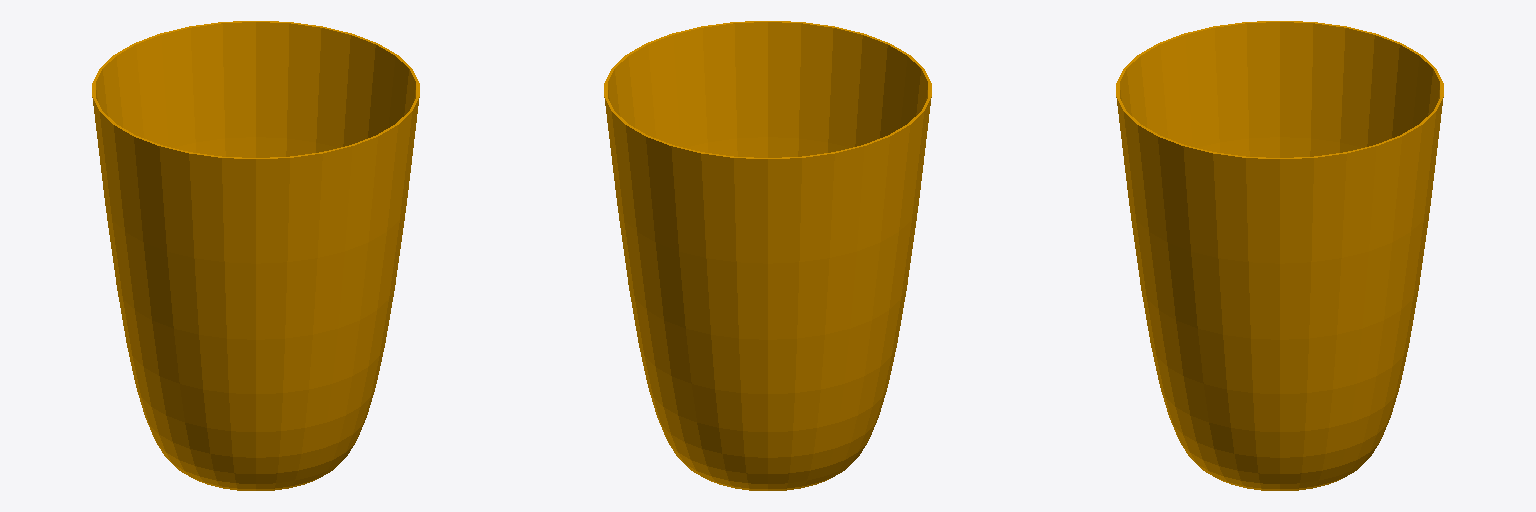
robot.urdf — object_634477841:

		<robot name="object_634477841">
			<link name="link_object_634477841">
				<visual>
					<geometry>
						<mesh filename="temp_object_634477841.obj" />
					</geometry>
				</visual>

				<collision>
					<geometry>
						<mesh filename="temp_object_634477841.obj" />
					</geometry>
				</collision>
				
				<inertial>
					<origin rpy="0 0 0" xyz="0 0 0"/>
					<mass value="0.3" />
					<inertia ixx="0.3" ixy="0" ixz="0" iyy="0.3" iyz="0" izz="0.3" />
				</inertial>
			</link>
		</robot>
		

--- Render facts (derived) ---
The picture shows the robot from 3 angles, left to right: view 1: azimuth 30°, elevation 25°; view 2: azimuth 150°, elevation 25°; view 3: azimuth 270°, elevation 25°; orthographic projection.
Robot: object_634477841 — 1 links, 0 joints (none); root link link_object_634477841; default pose: all joints at 0.
Links seen in each view (by area): view 1: link_object_634477841; view 2: link_object_634477841; view 3: link_object_634477841.
Boxes of the visible links, bbox=[...] form: link_object_634477841: bbox=[92, 21, 419, 490]; link_object_634477841: bbox=[604, 21, 931, 490]; link_object_634477841: bbox=[1116, 21, 1443, 490].
Size in the robot's own frame: 0.0991 by 0.0986 by 0.1243 metres.
Meshes: 1 distinct files referenced, 1 mesh visuals loaded (1 OBJ).
